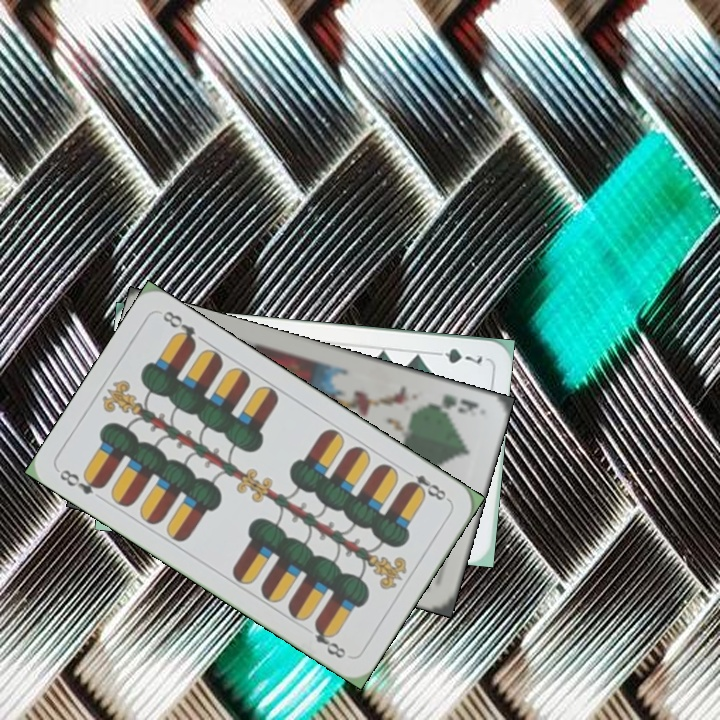E8: (400, 465, 452, 504), (55, 465, 107, 497)
G7: (428, 344, 485, 367)
GK: (438, 389, 482, 416)
